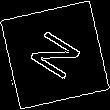N_SE: (23, 24, 87, 86)
